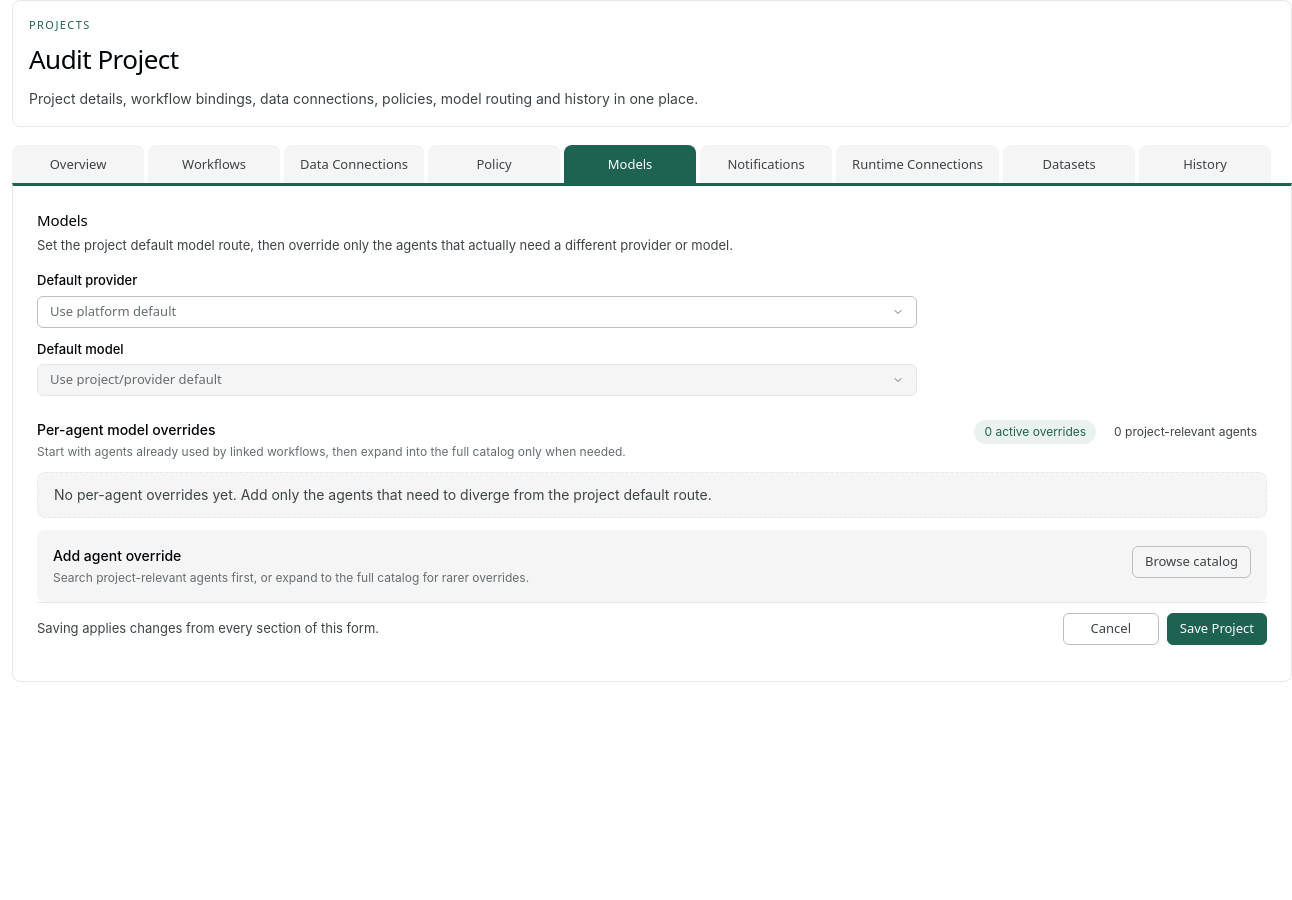
Test case: ProjectsDetailPage › blocks save when a provider is selected without a model
Expected: the heading "Models" is shown, [37, 210, 88, 230]
Click the dropdown named "Default provider" at (113, 311), box [37, 296, 917, 328]
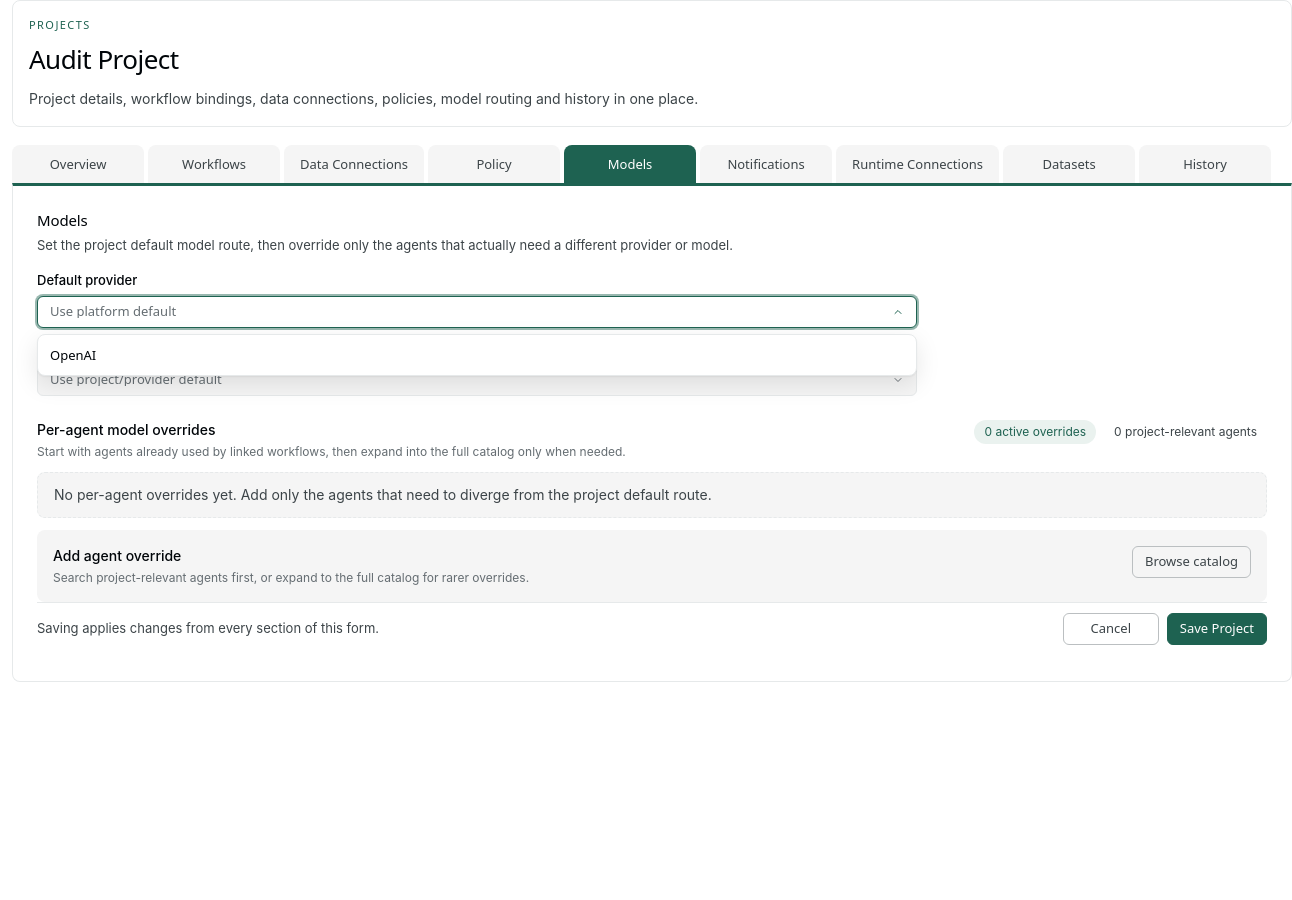
Click the option "OpenAI" at (73, 355), box [42, 339, 912, 371]
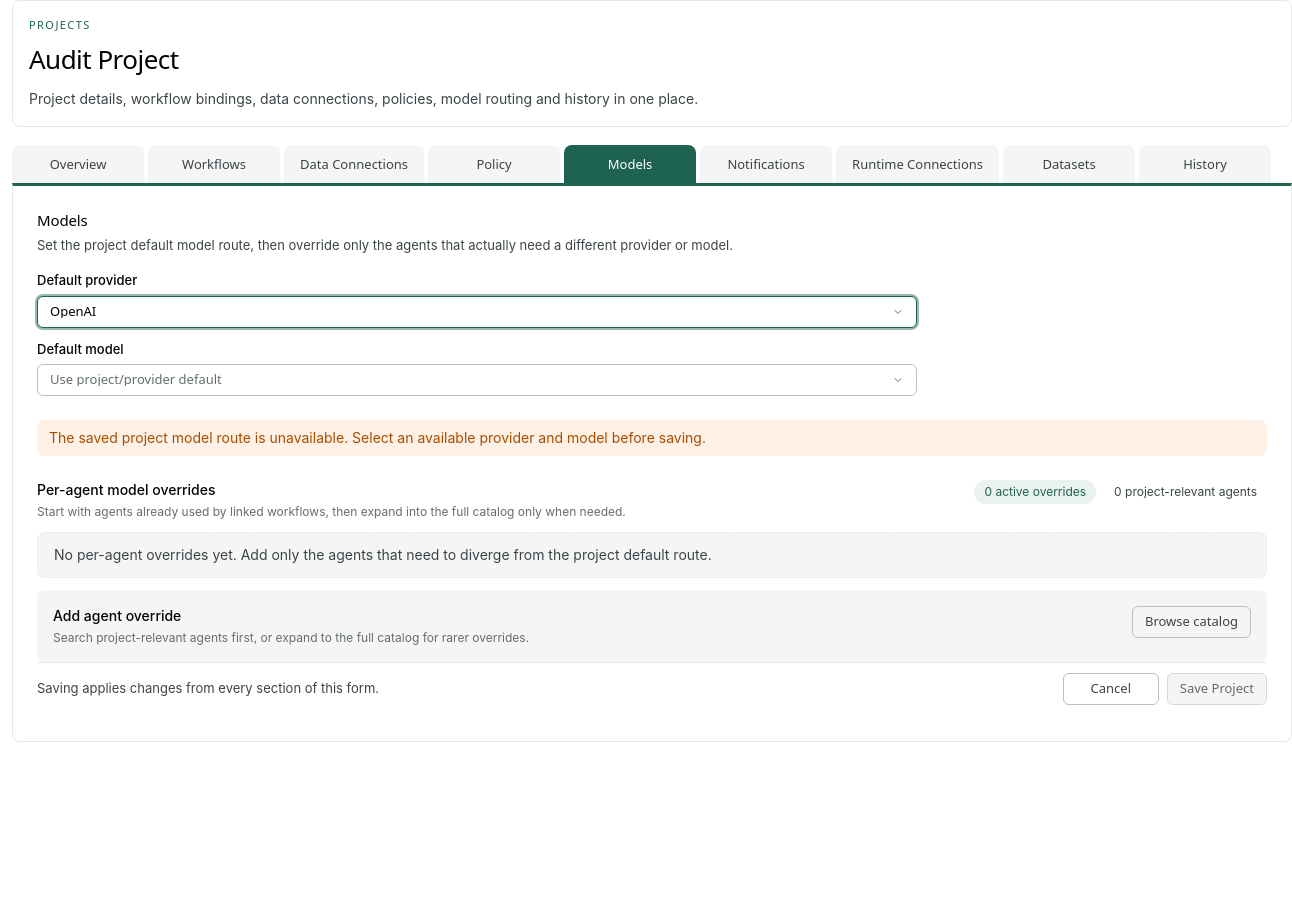
Expected: the dropdown named "Default model" reads "Use project/provider default", [37, 364, 917, 396]
Result: the button "Save Project" is disabled at [1167, 673, 1267, 705]
